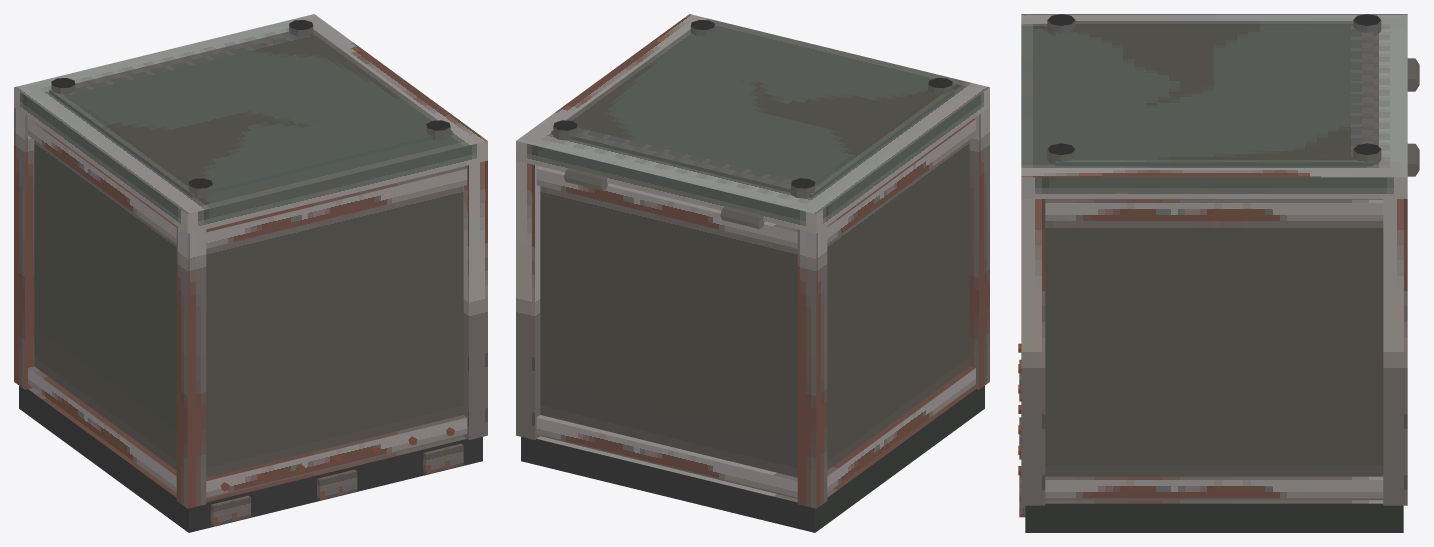
File: Building_AncientLargeCrate.glb
3 renders of one model, left to right at view 1: azimuth 30°, elevation 25°; view 2: azimuth 150°, elevation 25°; view 3: azimuth 270°, elevation 25°, orthographic. The views are drawn at different scales.
Visible parts, largest first — view 1: AncientLargeCrate; view 2: AncientLargeCrate; view 3: AncientLargeCrate.
Boxes of the visible parts, x1,y1,x2,y2 form: AncientLargeCrate: (14,14,487,532); AncientLargeCrate: (516,14,989,532); AncientLargeCrate: (1018,14,1419,532).
Bounding box in the file's own units: 0.96 × 1.01 × 0.997.
Materials: 1 (1 with a texture image).
